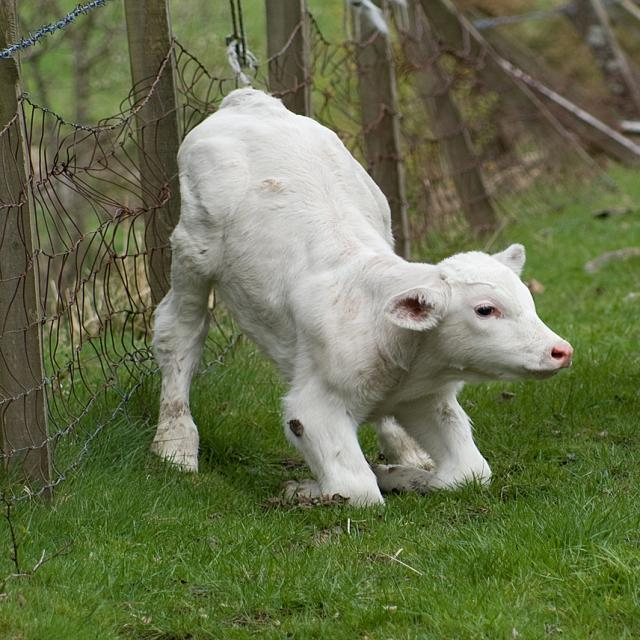Cattle: (149, 88, 574, 509)
